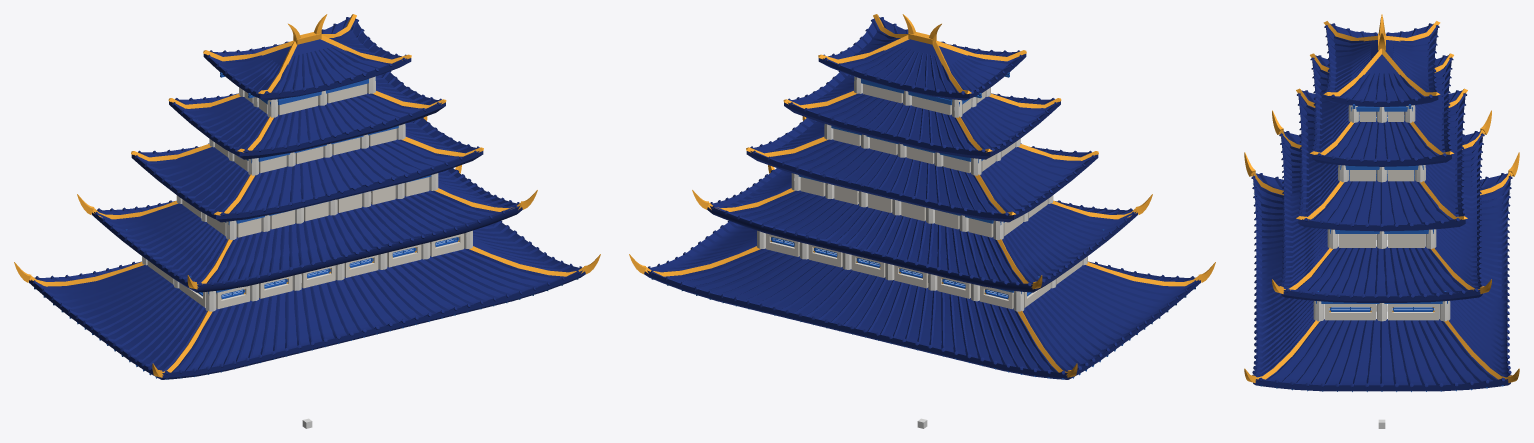
Rendered from Orthodox_Roofs.fbx.
The picture shows the model from 3 angles, left to right: view 1: azimuth 30°, elevation 25°; view 2: azimuth 150°, elevation 25°; view 3: azimuth 270°, elevation 25°; orthographic projection.
Visible parts, largest first — view 1: Orthodox_HallRoof1__Tile, Orthodox_HallTier2__Tile, Orthodox_HallTier3__Tile, Orthodox_HallTier4__Tile, Orthodox_HallTier5__Tile, Orthodox_HallTier2__Plaster, Orthodox_HallTier3__Plaster, Orthodox_HallRoof1__Gold, Orthodox_HallTier5__Gold, Orthodox_HallTier4__Plaster, Orthodox_HallTier2__Gold, Orthodox_HallTier2__Marble (+7 smaller); view 2: Orthodox_HallRoof1__Tile, Orthodox_HallTier2__Tile, Orthodox_HallTier3__Tile, Orthodox_HallTier4__Tile, Orthodox_HallTier5__Tile, Orthodox_HallTier2__Plaster, Orthodox_HallTier3__Plaster, Orthodox_HallRoof1__Gold, Orthodox_HallTier5__Gold, Orthodox_HallTier4__Plaster, Orthodox_HallTier2__Gold, Orthodox_HallTier2__Marble (+7 smaller); view 3: Orthodox_HallRoof1__Tile, Orthodox_HallTier2__Tile, Orthodox_HallTier3__Tile, Orthodox_HallTier4__Tile, Orthodox_HallTier5__Tile, Orthodox_HallRoof1__Gold, Orthodox_HallTier5__Gold, Orthodox_HallTier2__Plaster, Orthodox_HallTier2__Gold, Orthodox_HallTier3__Plaster, Orthodox_HallTier3__Gold, Orthodox_HallTier4__Gold (+10 smaller).
Boxes of the visible parts, x1,y1,x2,y2 form: Orthodox_HallRoof1__Tile: (29,220,585,379); Orthodox_HallTier2__Tile: (92,168,522,292); Orthodox_HallTier3__Tile: (131,117,483,222); Orthodox_HallTier4__Tile: (169,71,445,159); Orthodox_HallTier5__Tile: (203,17,411,100); Orthodox_HallTier2__Plaster: (147,233,463,309); Orthodox_HallTier3__Plaster: (182,177,429,237); Orthodox_HallRoof1__Gold: (14,165,600,377); Orthodox_HallTier5__Gold: (203,14,411,93); Orthodox_HallTier4__Plaster: (215,128,396,173); Orthodox_HallTier2__Gold: (77,116,537,299); Orthodox_HallTier2__Marble: (142,230,472,311); Orthodox_HallRoof1__Tile: (644,220,1200,379); Orthodox_HallTier2__Tile: (707,168,1137,292); Orthodox_HallTier3__Tile: (746,117,1098,222); Orthodox_HallTier4__Tile: (784,71,1060,159); Orthodox_HallTier5__Tile: (818,17,1026,100); Orthodox_HallTier2__Plaster: (766,233,1082,309); Orthodox_HallTier3__Plaster: (800,177,1047,237); Orthodox_HallRoof1__Gold: (629,165,1215,377); Orthodox_HallTier5__Gold: (818,14,1026,93); Orthodox_HallTier4__Plaster: (833,128,1014,173); Orthodox_HallTier2__Gold: (692,116,1152,299); Orthodox_HallTier2__Marble: (757,230,1087,311); Orthodox_HallRoof1__Tile: (1251,173,1512,391); Orthodox_HallTier2__Tile: (1279,131,1484,302); Orthodox_HallTier3__Tile: (1297,90,1466,231); Orthodox_HallTier4__Tile: (1310,55,1453,166); Orthodox_HallTier5__Tile: (1324,23,1439,106); Orthodox_HallRoof1__Gold: (1244,152,1519,382); Orthodox_HallTier5__Gold: (1323,14,1440,96); Orthodox_HallTier2__Plaster: (1325,304,1438,320); Orthodox_HallTier2__Gold: (1272,110,1491,312); Orthodox_HallTier3__Plaster: (1339,234,1424,247); Orthodox_HallTier3__Gold: (1296,88,1467,219); Orthodox_HallTier4__Gold: (1310,53,1453,155).
Bounding box in the file's own units: 73.37 × 63.8 × 39.41.
